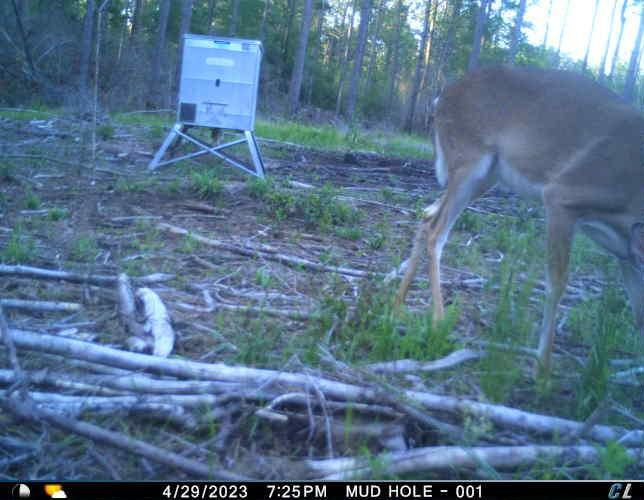Deer: (388, 57, 644, 395)
